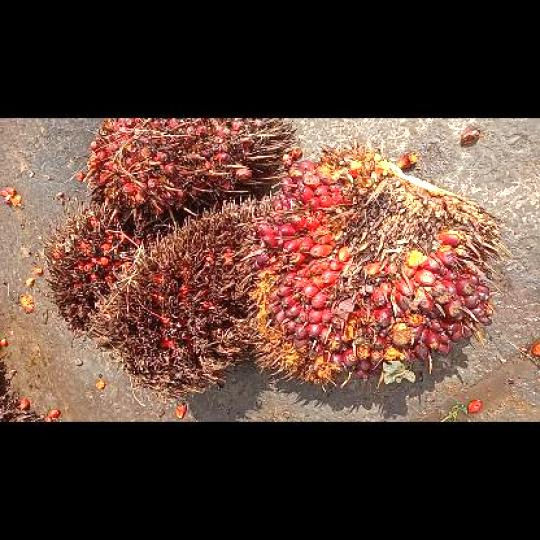masak: (236, 142, 512, 390), (82, 118, 296, 225)
terlalu masak: (89, 194, 274, 403), (38, 196, 154, 335)
